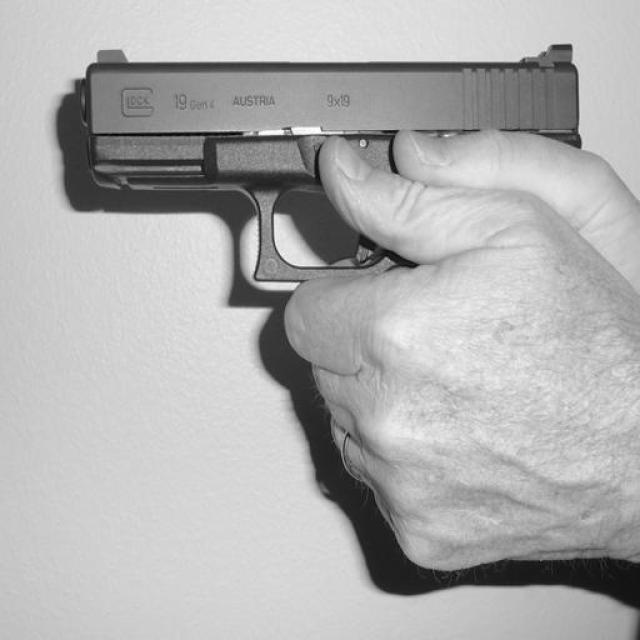pistol: (76, 43, 582, 279)
